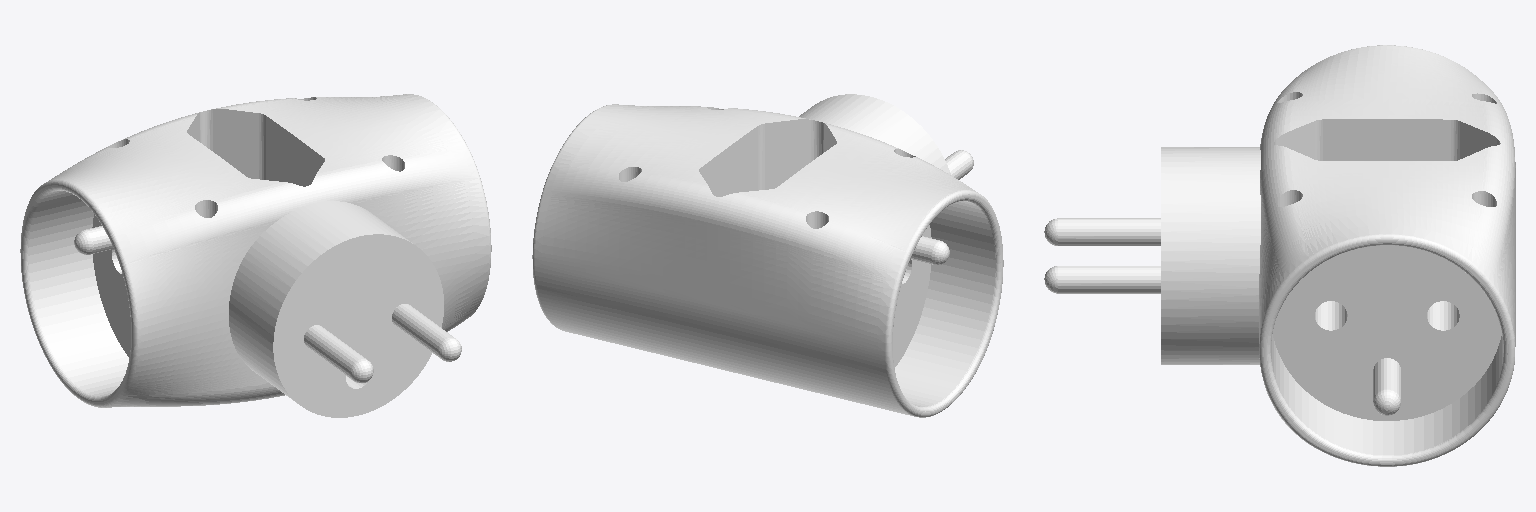
The robot description file, URDF, robot "obj_000021":
<?xml version="1.0" ?>
<robot name="obj_000021">
   <link name="base_link">
      <visual>
         <geometry>
            <mesh filename="package://agimus_demo_07_tiago_pro_pick_and_drop/urdf/obj_21.obj" scale="1 1 1"/>
         </geometry>
         <material name="tless_white">
            <color rgba="1.0 1.0 1.0 1.0"/>
         </material>
      </visual>
      <collision>
         <geometry>
            <mesh filename="package://agimus_demo_07_tiago_pro_pick_and_drop/urdf/obj_21.obj" scale="1 1 1"/>
         </geometry>
      </collision>
      <inertial>
         <origin rpy="0 0 0" xyz="0.0 0.0 0.0"/>
         <mass value="0.1"/>
         <inertia ixx="1" ixy="0" ixz="0" iyy="1" iyz="0" izz="1"/>
      </inertial>
   </link>
</robot>

--- Facts derived from the render (not from the file) ---
Views: 3 orthographic renders of the robot side by side, from view 1: azimuth 30°, elevation 25°; view 2: azimuth 150°, elevation 25°; view 3: azimuth 270°, elevation 25°.
Model obj_000021 with 1 links and 0 joints (none), rooted at base_link, posed every joint at zero.
Visible links, largest first — view 1: base_link; view 2: base_link; view 3: base_link.
Link boxes in pixels (x1,y1,x2,y2): base_link: (20,94,491,417); base_link: (532,94,1003,417); base_link: (1044,45,1515,466).
Bounding box of the posed robot: 0.0769 × 0.079 × 0.043 m (x, y, z).
1 mesh visuals loaded from 1 distinct referenced files (1 OBJ).
